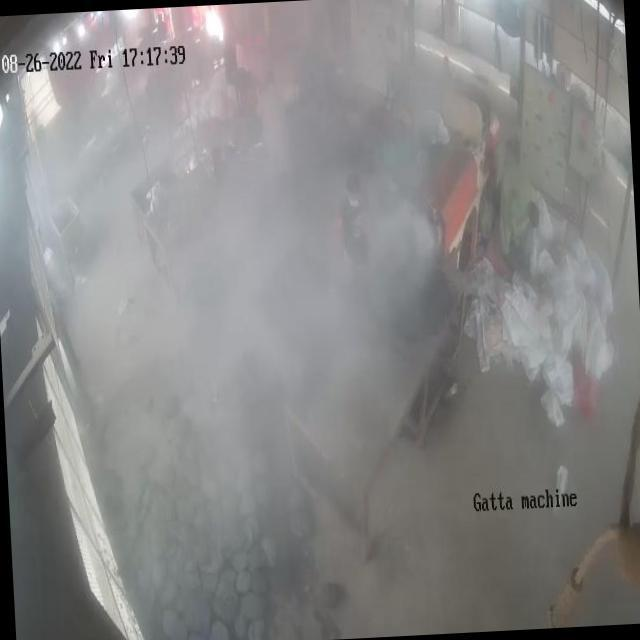person: (498, 158, 540, 258), (338, 177, 374, 276)
